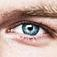eye: (22, 23, 39, 35)
